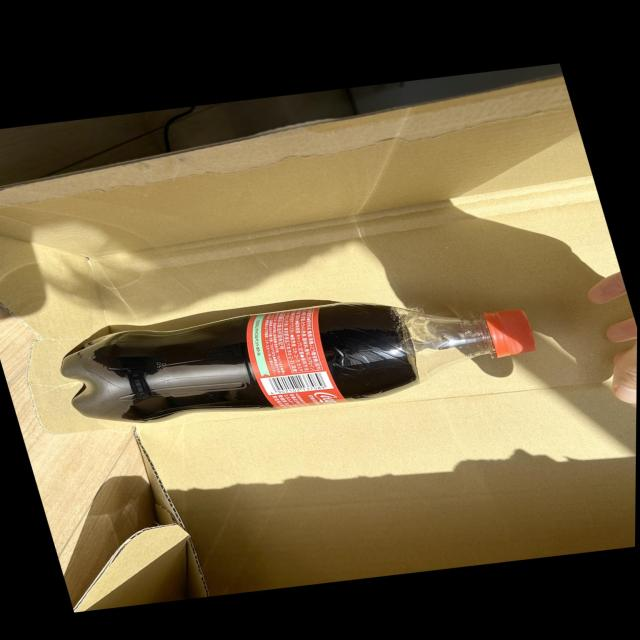high: (61, 303, 535, 422)
